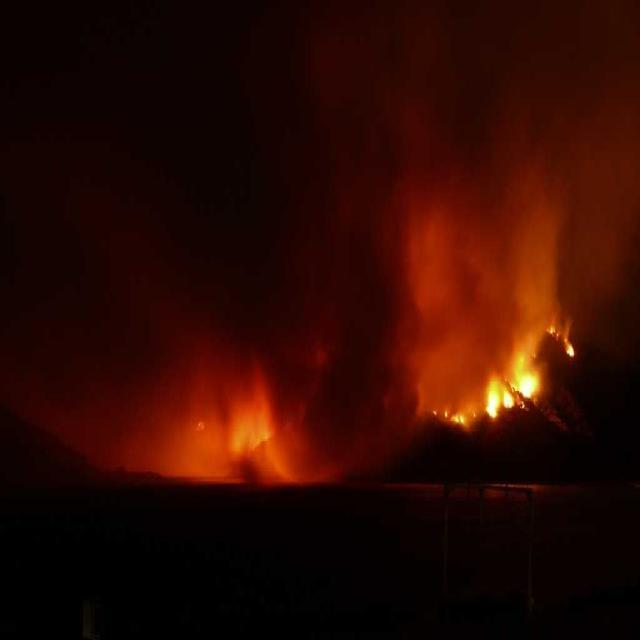Fire: (456, 363, 550, 438), (218, 407, 292, 492)
Smoke: (416, 104, 576, 236)
